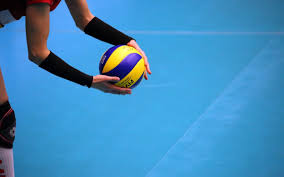ball: (99, 45, 145, 91)
